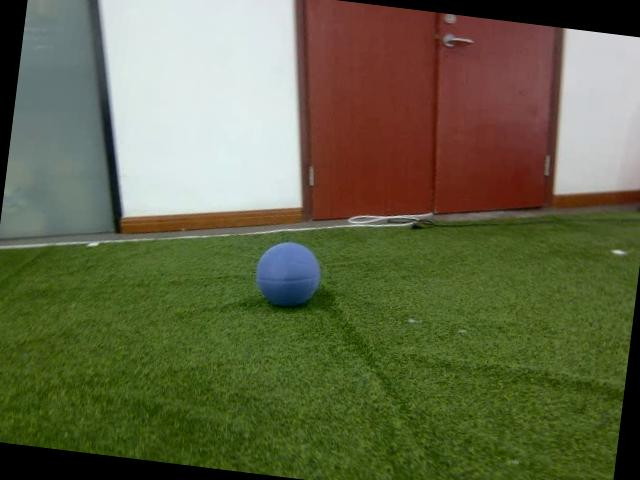blue_ball: (250, 237, 324, 311)
